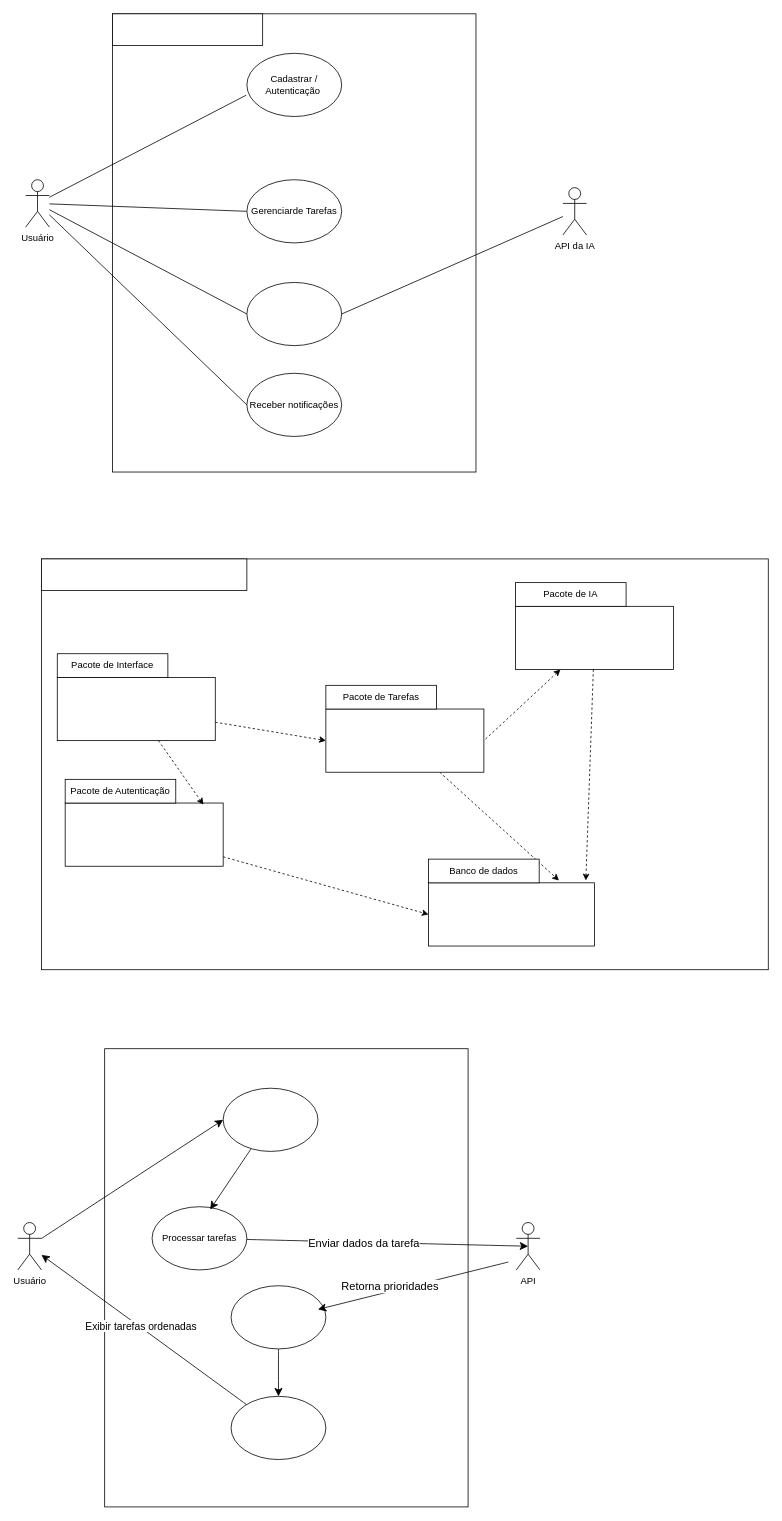
The diagram is 782 pixels wide and 1521 high, and some of its shapes have lost their labels. Here are the shapes that lost their labels. From the top down, the centre of each, then its label:
(x=187, y=29): Sistema de Assistente virtual para gerenciamento de tarefas
(x=294, y=314): Priorizar tarefas
(x=144, y=574): Sistema de Gerenciamento de Tarefas
(x=270, y=1119): Solicitar priorização
(x=278, y=1317): Analisar e priorizar
(x=278, y=1428): Apresentar tarefas priorizadas
